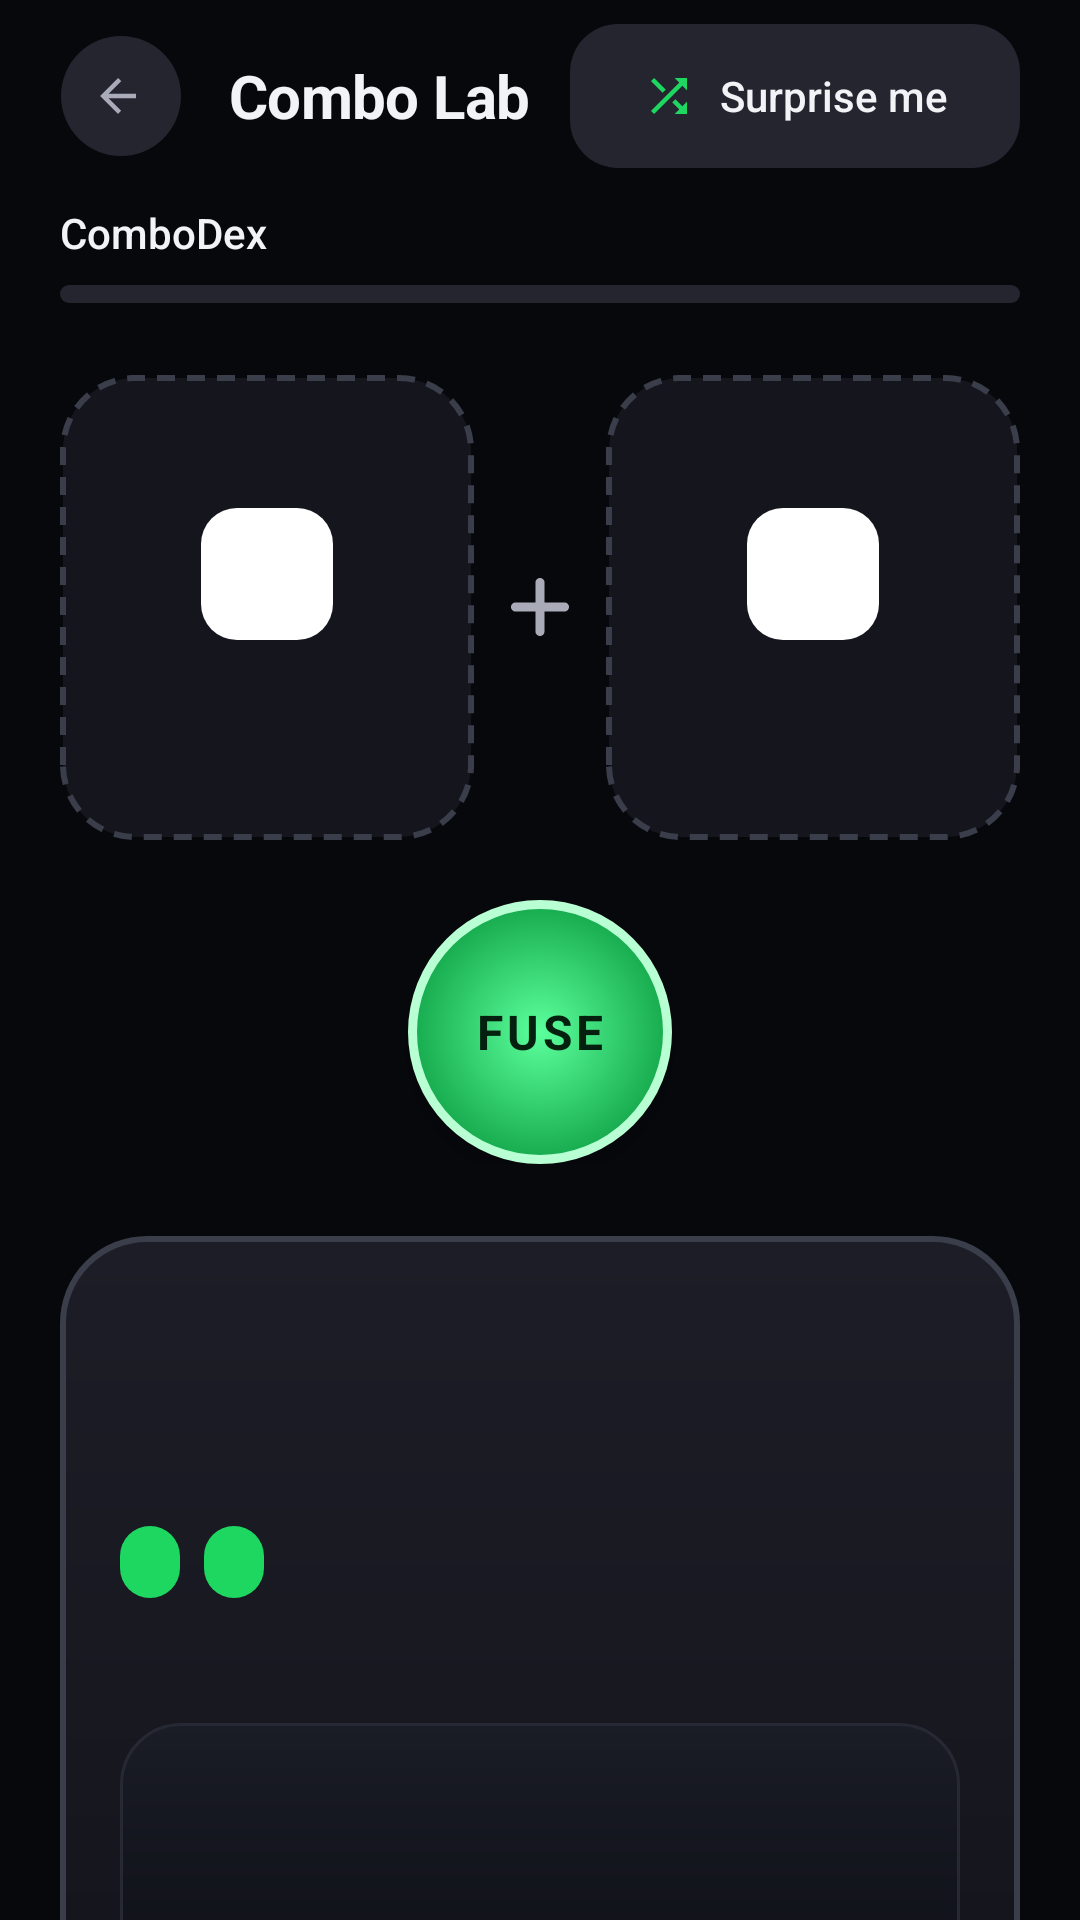

Where to tap for icons on this 1080 × 1920 app screen, as (x=x, y=y):
Back: (x=121, y=96)
plus: (x=540, y=607)
